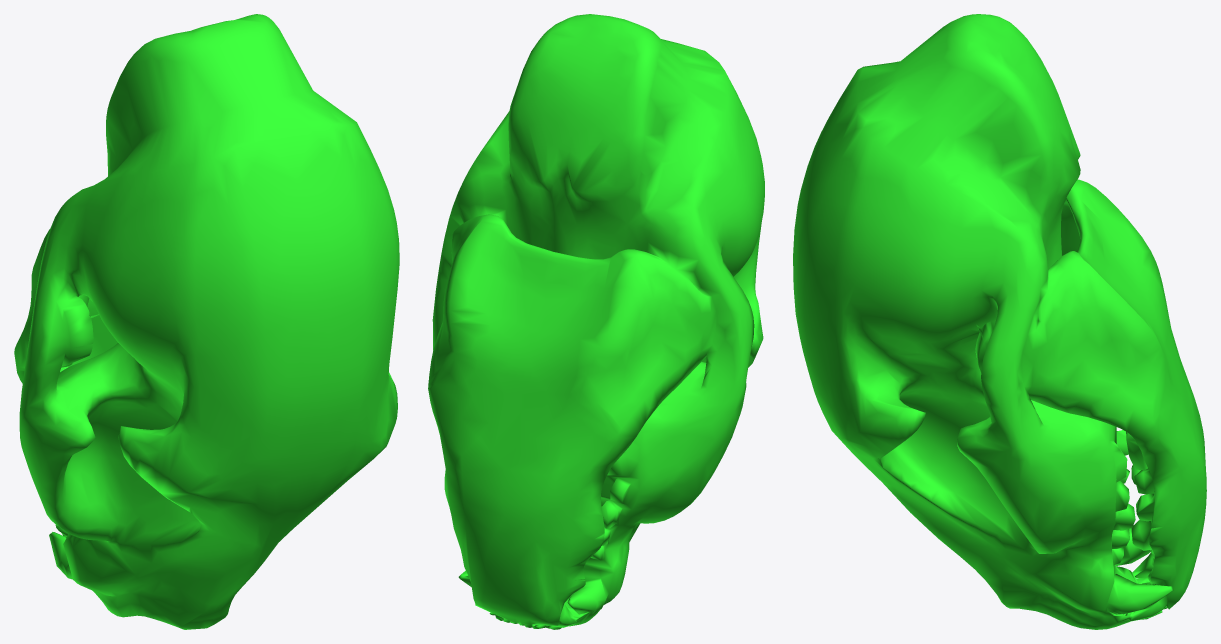
The model's file is Catskull.obj.
The picture shows the model from 3 angles, left to right: view 1: azimuth 30°, elevation 25°; view 2: azimuth 150°, elevation 25°; view 3: azimuth 270°, elevation 25°; orthographic projection. The views are drawn at different scales.
Visible parts, largest first — view 1: Catskull; view 2: Catskull; view 3: Catskull.
Part boxes in pixels (x1=…): Catskull: x1=14, y1=14, x2=399, y2=629; Catskull: x1=428, y1=14, x2=764, y2=629; Catskull: x1=793, y1=14, x2=1206, y2=629.
Size of the model in its own units: 0.5893 by 1 by 0.6428.
